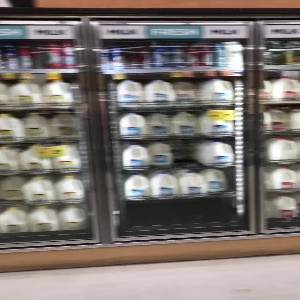void: (127, 201, 240, 226), (172, 139, 200, 165)
